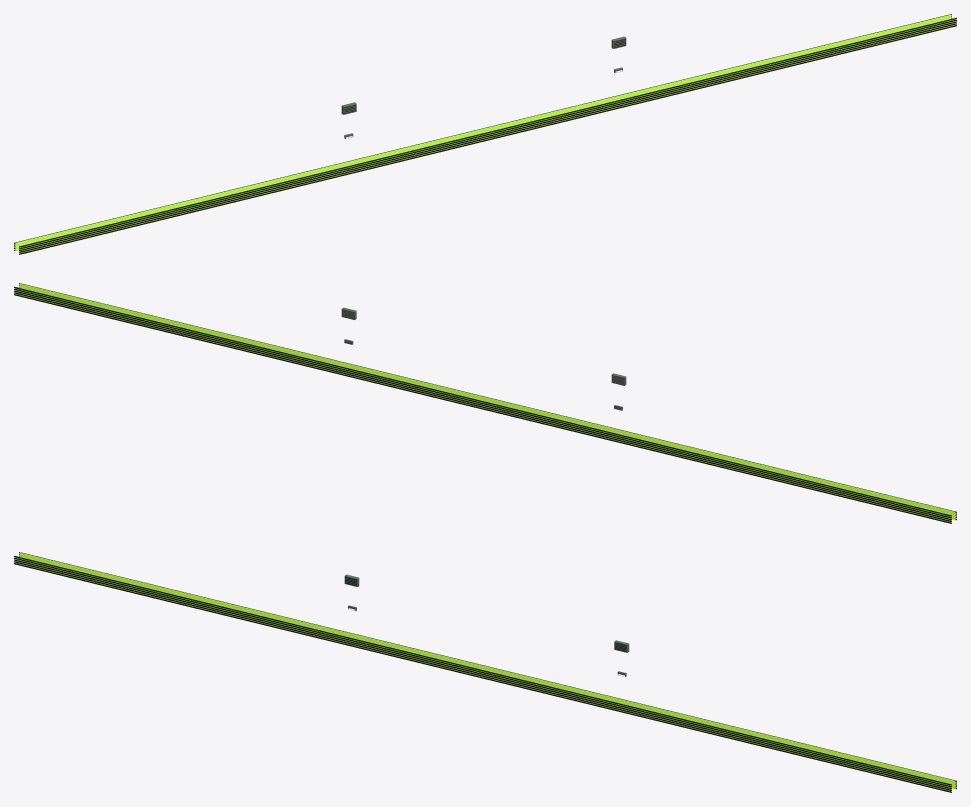
The picture shows the model from 3 angles, top to bottom: view 1: azimuth 30°, elevation 25°; view 2: azimuth 150°, elevation 25°; view 3: azimuth 330°, elevation 25°; orthographic projection.
Parts seen in each view (by area): view 1: p0_m5; view 2: p0_m5; view 3: p0_m5.
Part boxes in pixels (<box>): p0_m5: <box>14,14,956,254</box>; p0_m5: <box>14,283,956,523</box>; p0_m5: <box>14,552,956,792</box>.
Size of the model in its own units: 70.5 by 4.75 by 0.73.
